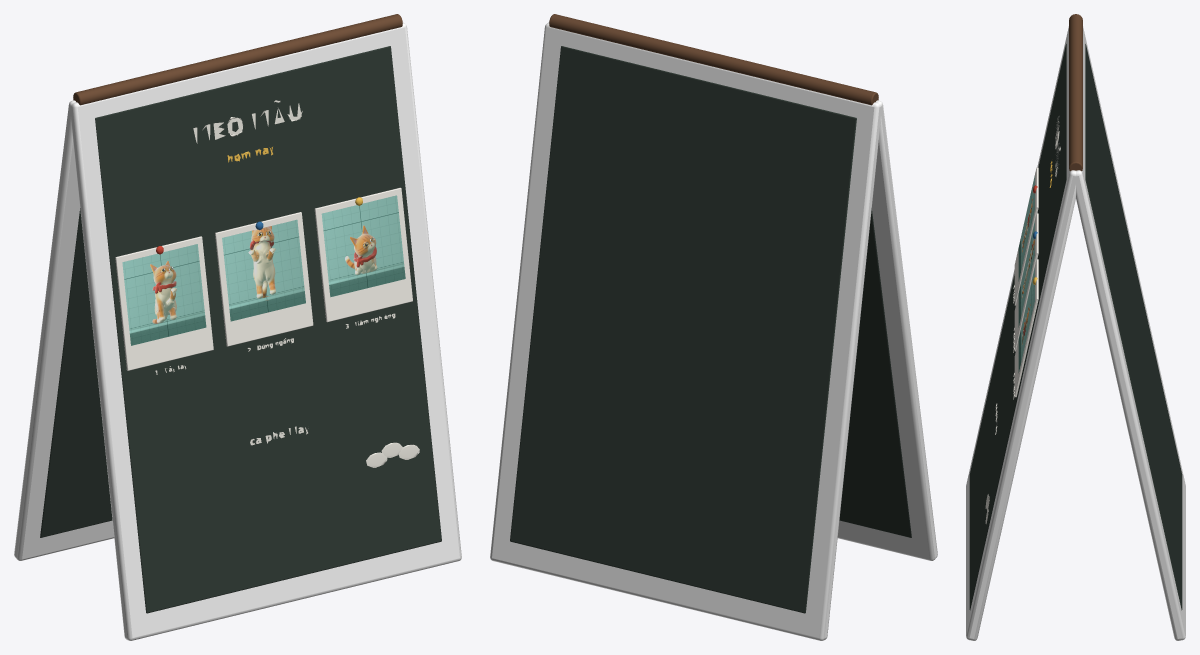
File: bang_dang_mau.glb
The picture shows the model from 3 angles, left to right: view 1: azimuth 30°, elevation 25°; view 2: azimuth 150°, elevation 25°; view 3: azimuth 270°, elevation 25°; orthographic projection. The views are drawn at different scales.
Parts seen in each view (by area): view 1: Cube.001, Cube, Cube.006, Cube.005, Plane, Plane.002, Plane.001, Cylinder, Cube.002, Cube.003, Cube.004, Text; view 2: Cube.006, Cube.005, Cube.001, Cube, Cylinder; view 3: Cube.006, Cube.001, Cube.005, Cube, Cylinder, Cube.004, Cube.003, Cube.002, Plane, Plane.002, Plane.001.
Part boxes in pixels (x1=…): Cube.001: x1=95, y1=46, x2=441, y2=613; Cube: x1=70, y1=23, x2=461, y2=640; Cube.006: x1=40, y1=208, x2=112, y2=537; Cube.005: x1=14, y1=22, x2=403, y2=560; Plane: x1=122, y1=244, x2=206, y2=345; Plane.002: x1=321, y1=195, x2=405, y2=297; Plane.001: x1=222, y1=219, x2=305, y2=321; Cylinder: x1=73, y1=14, x2=402, y2=105; Cube.002: x1=115, y1=236, x2=213, y2=370; Cube.003: x1=215, y1=212, x2=313, y2=346; Cube.004: x1=314, y1=187, x2=412, y2=322; Text: x1=193, y1=100, x2=302, y2=143; Cube.006: x1=510, y1=46, x2=856, y2=613; Cube.005: x1=490, y1=23, x2=881, y2=640; Cube.001: x1=839, y1=208, x2=911, y2=537; Cube: x1=548, y1=22, x2=937, y2=560; Cylinder: x1=549, y1=14, x2=878, y2=105; Cube.006: x1=1085, y1=44, x2=1182, y2=610; Cube.001: x1=969, y1=44, x2=1066, y2=610; Cube.005: x1=1075, y1=26, x2=1185, y2=640; Cube: x1=966, y1=26, x2=1077, y2=640; Cylinder: x1=1069, y1=14, x2=1082, y2=171; Cube.004: x1=1014, y1=259, x2=1038, y2=397; Cube.003: x1=1014, y1=213, x2=1038, y2=351; Cube.002: x1=1014, y1=167, x2=1038, y2=305; Plane: x1=1018, y1=176, x2=1034, y2=281; Plane.002: x1=1018, y1=267, x2=1034, y2=372; Plane.001: x1=1018, y1=221, x2=1034, y2=327.
Size of the model in its own units: 0.62 by 0.8989 by 0.3748.
Materials: 12 (3 with a texture image).
